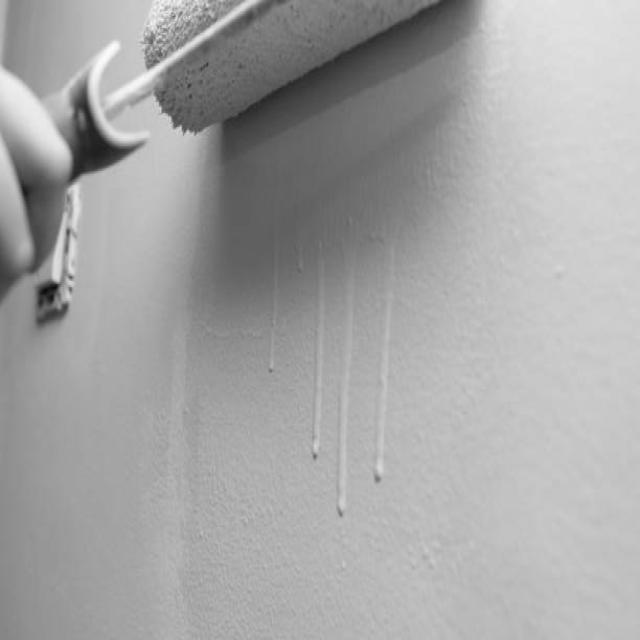paint drips: (243, 177, 411, 535)
